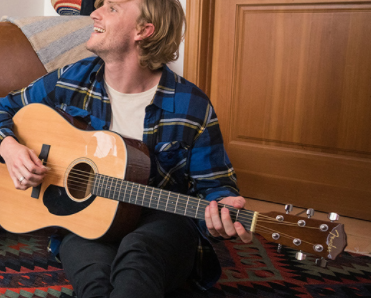fretboard: (93, 173, 253, 231)
